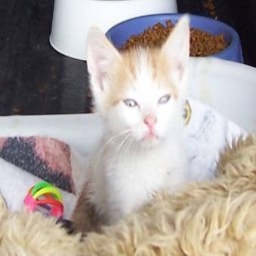cat: (70, 23, 216, 226)
